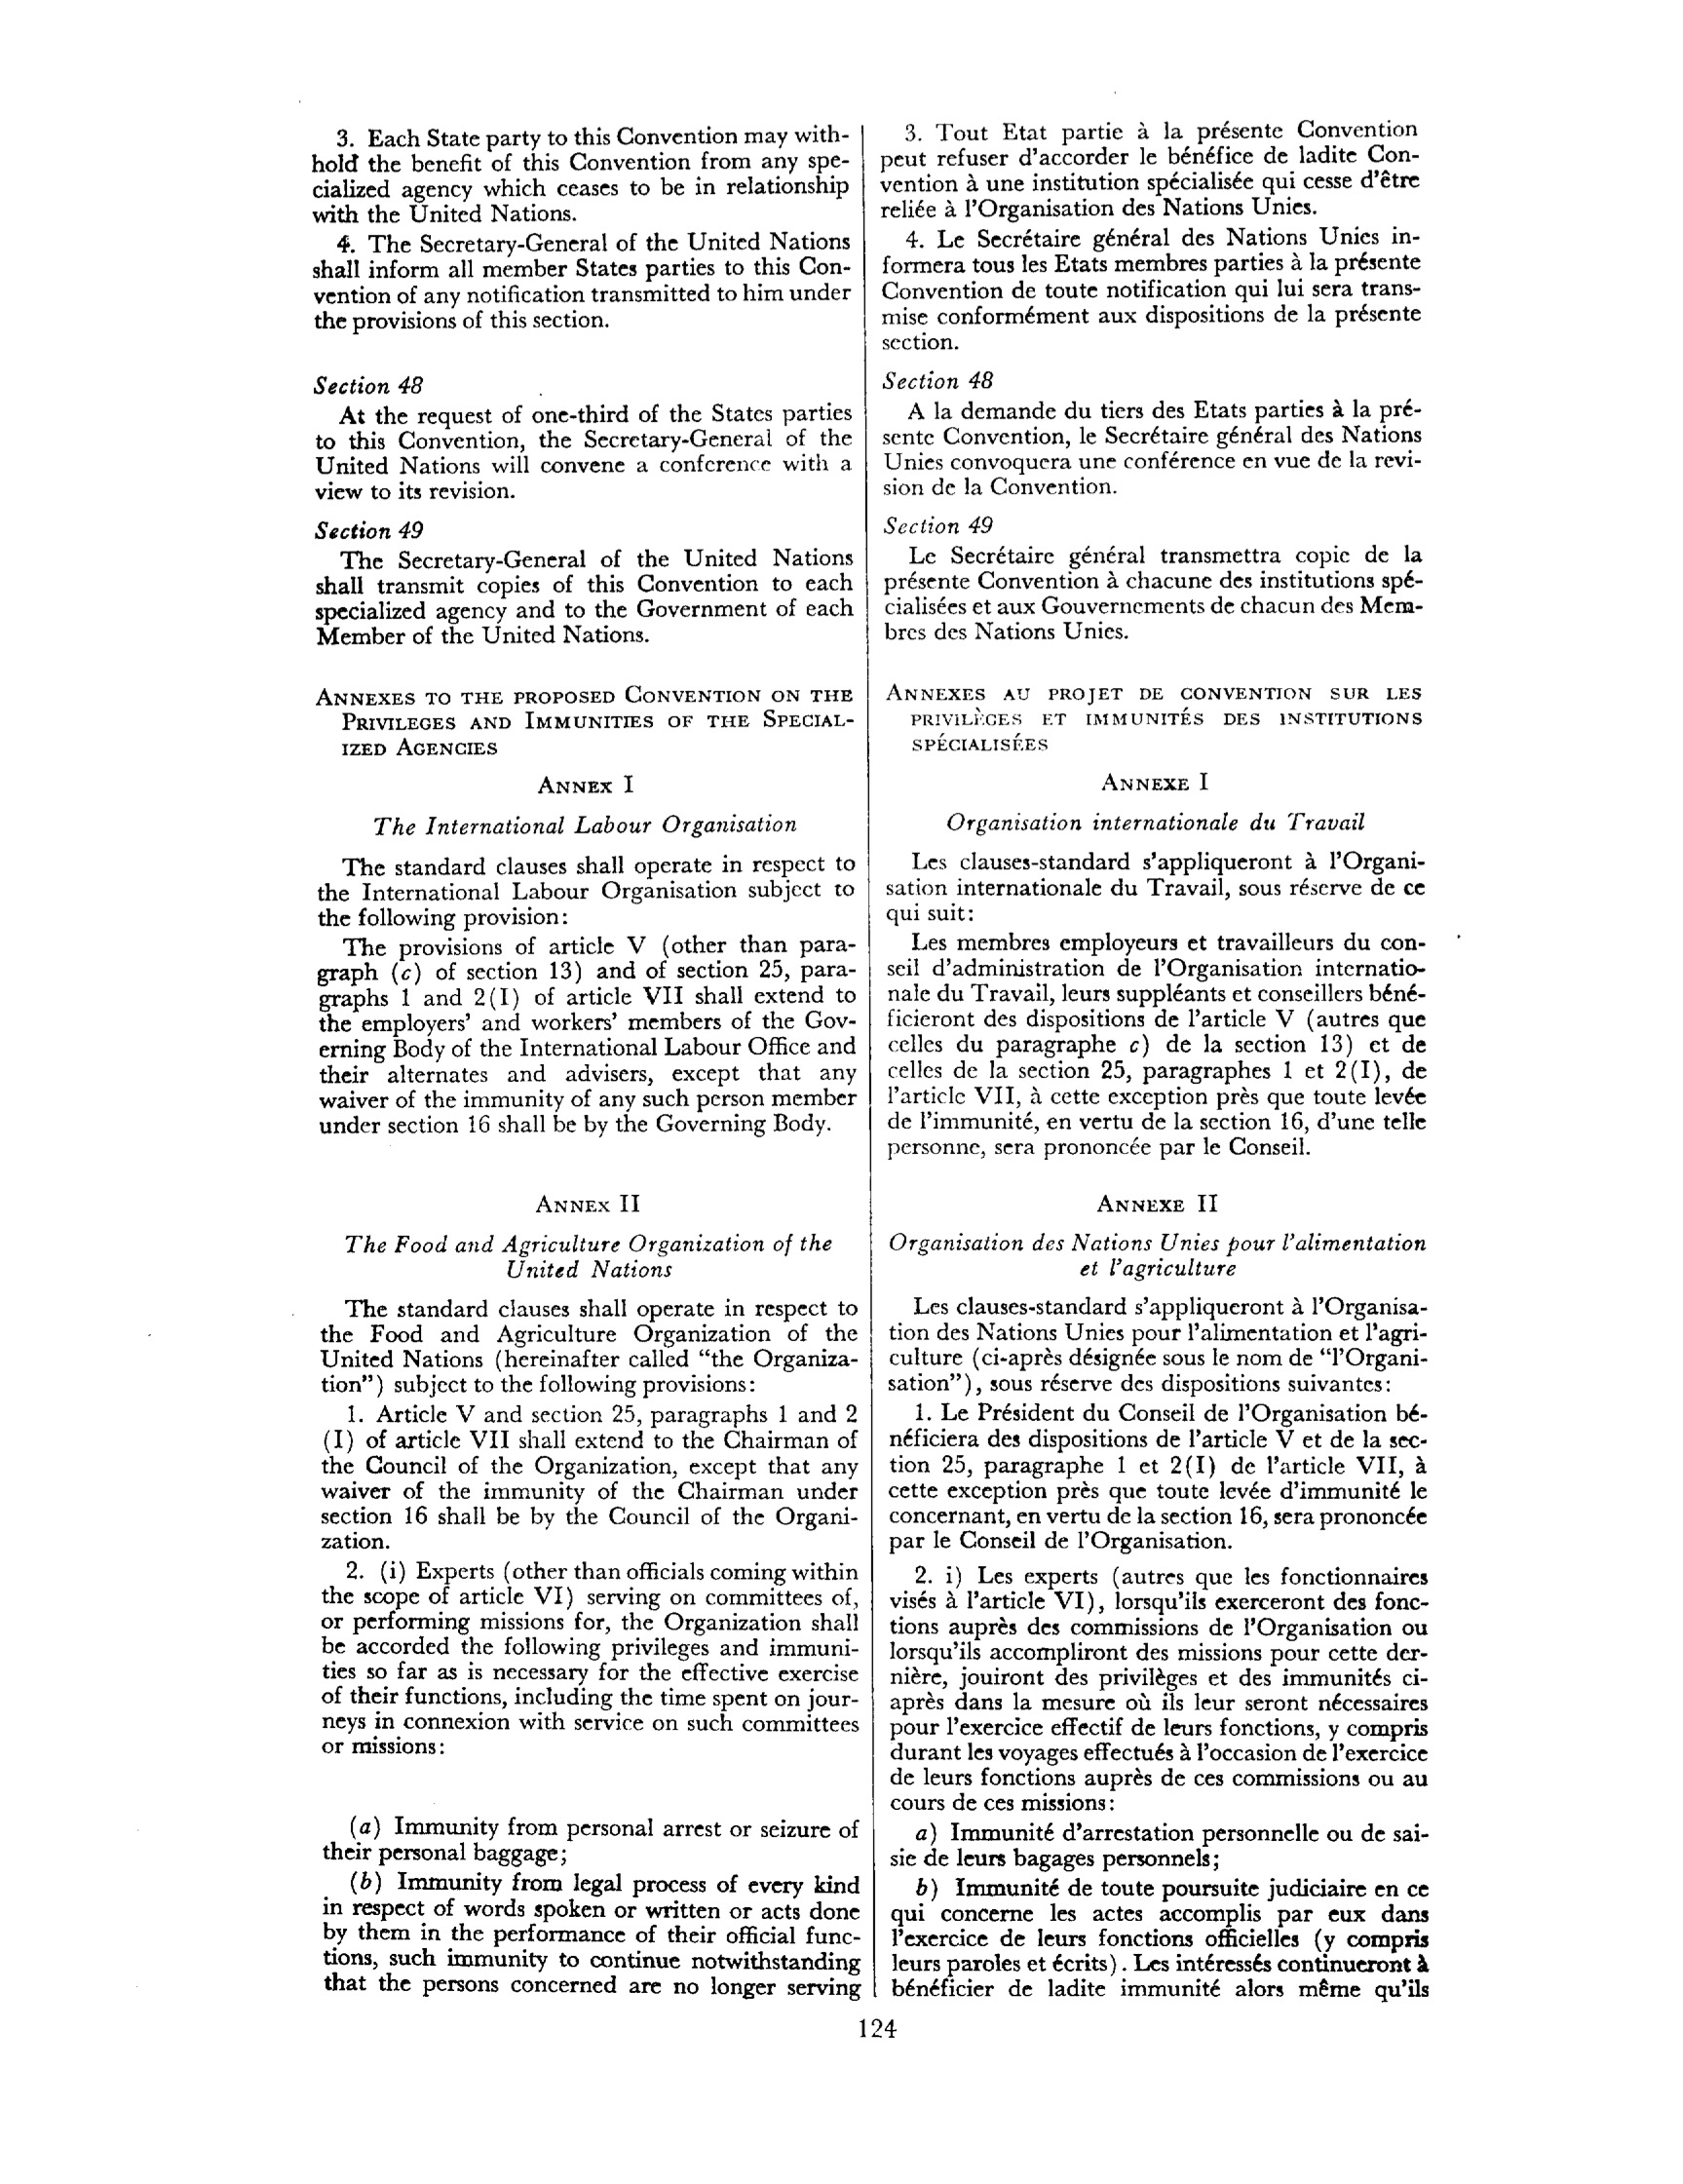MainZone-Head: (880, 677, 1432, 759), (311, 681, 859, 762), (883, 1224, 1432, 1284), (328, 1228, 842, 1288), (372, 805, 807, 843), (933, 804, 1375, 839), (1090, 1184, 1225, 1221), (530, 1184, 647, 1223), (1094, 764, 1217, 799), (530, 767, 642, 804), (308, 369, 431, 402), (877, 364, 1002, 396), (308, 516, 432, 547), (878, 510, 1000, 541)
MainZone-ListItem: (883, 1558, 1434, 1816), (313, 1554, 863, 1765), (885, 1399, 1433, 1554), (314, 1399, 862, 1552), (315, 1867, 867, 2006), (877, 223, 1430, 356), (885, 1873, 1435, 2005), (304, 228, 855, 338), (301, 119, 856, 227), (874, 113, 1427, 221), (315, 1810, 866, 1868), (885, 1816, 1436, 1874)
MainZone-P: (882, 930, 1434, 1167), (312, 932, 861, 1145), (879, 542, 1433, 648), (877, 398, 1431, 503), (885, 1290, 1433, 1397), (308, 547, 859, 652), (314, 1294, 863, 1399), (307, 402, 859, 506), (880, 843, 1433, 928), (307, 850, 862, 932)
TitlePageZone: (855, 2012, 903, 2048)
